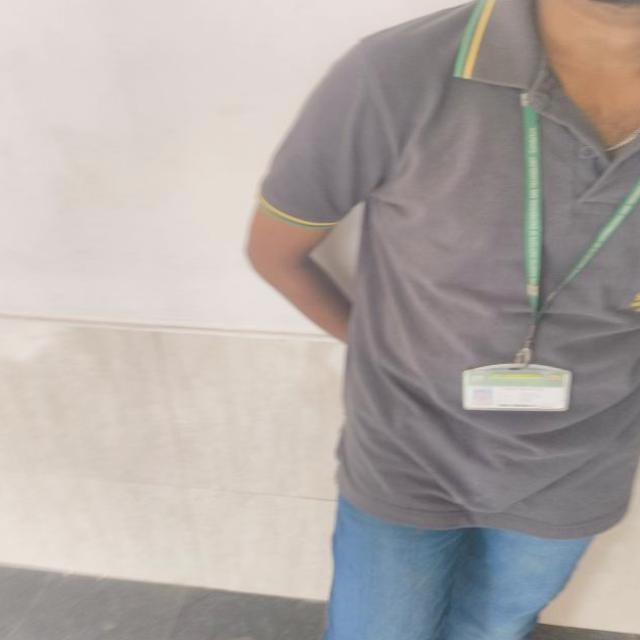ID_card: (494, 93, 576, 410)
